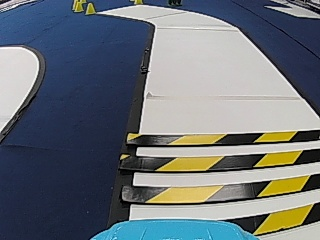bump: (132, 132, 316, 217)
